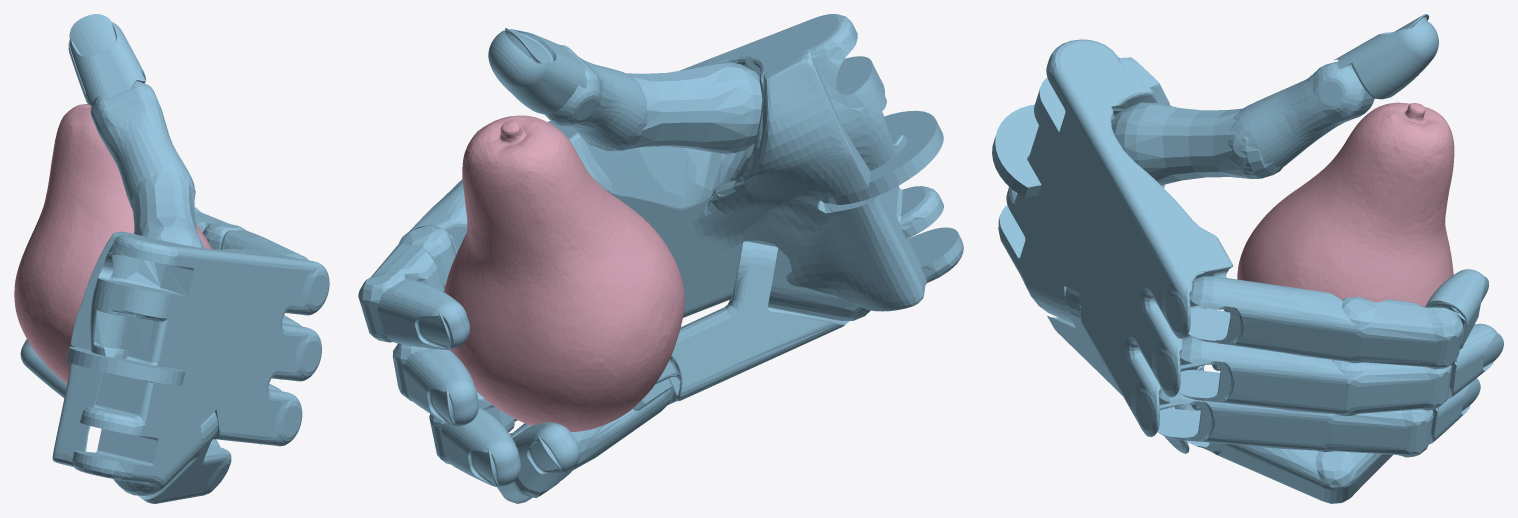
3 views of the same model, side by side, from view 1: azimuth 30°, elevation 25°; view 2: azimuth 150°, elevation 25°; view 3: azimuth 270°, elevation 25° (orthographic). The views are drawn at different scales.
Parts seen in each view (by area): view 1: world; view 2: world; view 3: world.
Boxes of the visible parts, box(x1,y1,x2,y2) form: world: box(14, 14, 329, 503); world: box(358, 14, 963, 503); world: box(992, 14, 1503, 503).
Size of the model in its own units: 0.1228 by 0.1563 by 0.1547.
